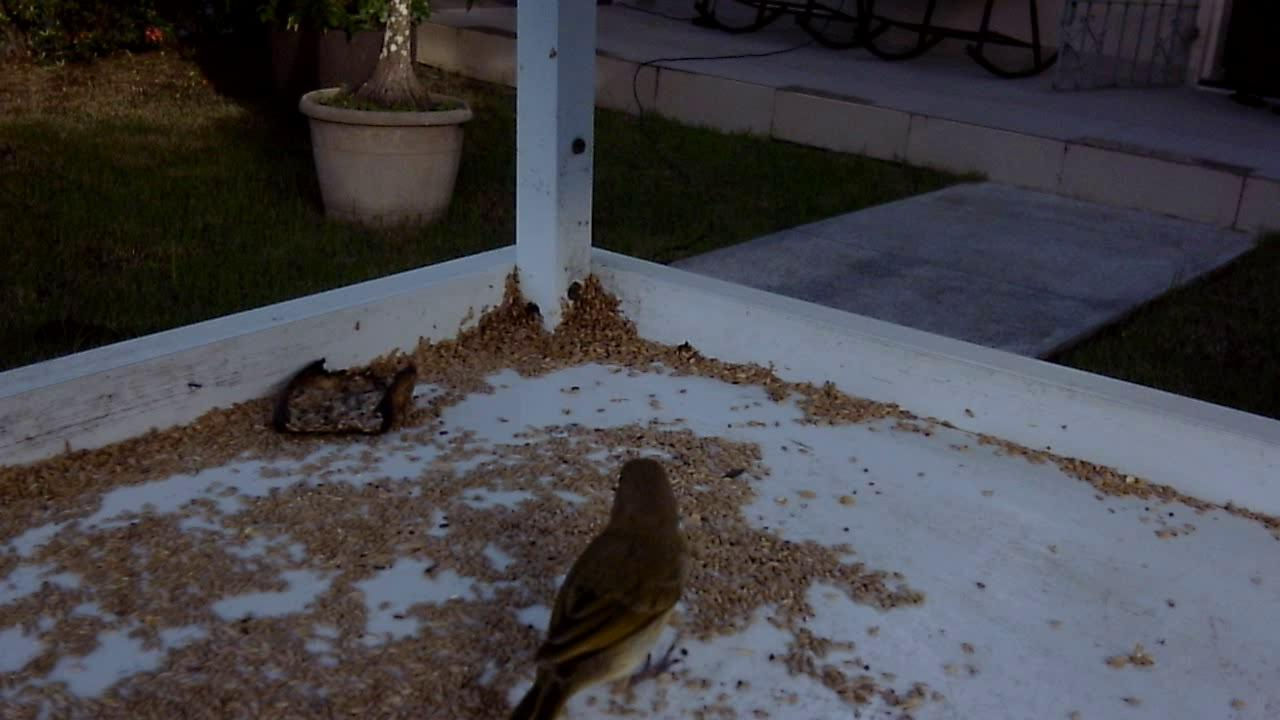canario_do_amazonas: (487, 455, 703, 716)
